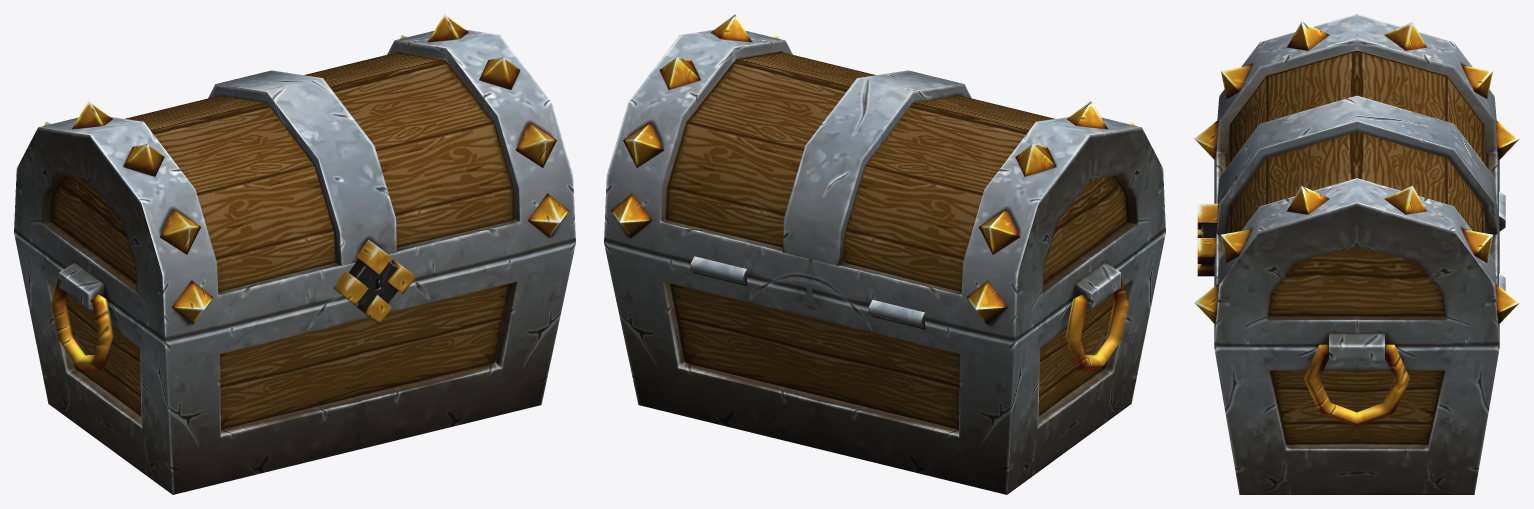
Rendered from Chest.obj.
3 renders of one model, left to right at view 1: azimuth 30°, elevation 25°; view 2: azimuth 150°, elevation 25°; view 3: azimuth 270°, elevation 25°, orthographic. The views are drawn at different scales.
Parts seen in each view (by area): view 1: chest; view 2: chest; view 3: chest.
Part boxes in pixels (x1,y1,x2,y2): chest: [14, 14, 575, 494]; chest: [604, 14, 1165, 494]; chest: [1194, 14, 1519, 494].
Bounding box in the file's own units: 1.43 × 1.01 × 0.9677.
Materials: 1 (1 with a texture image).
